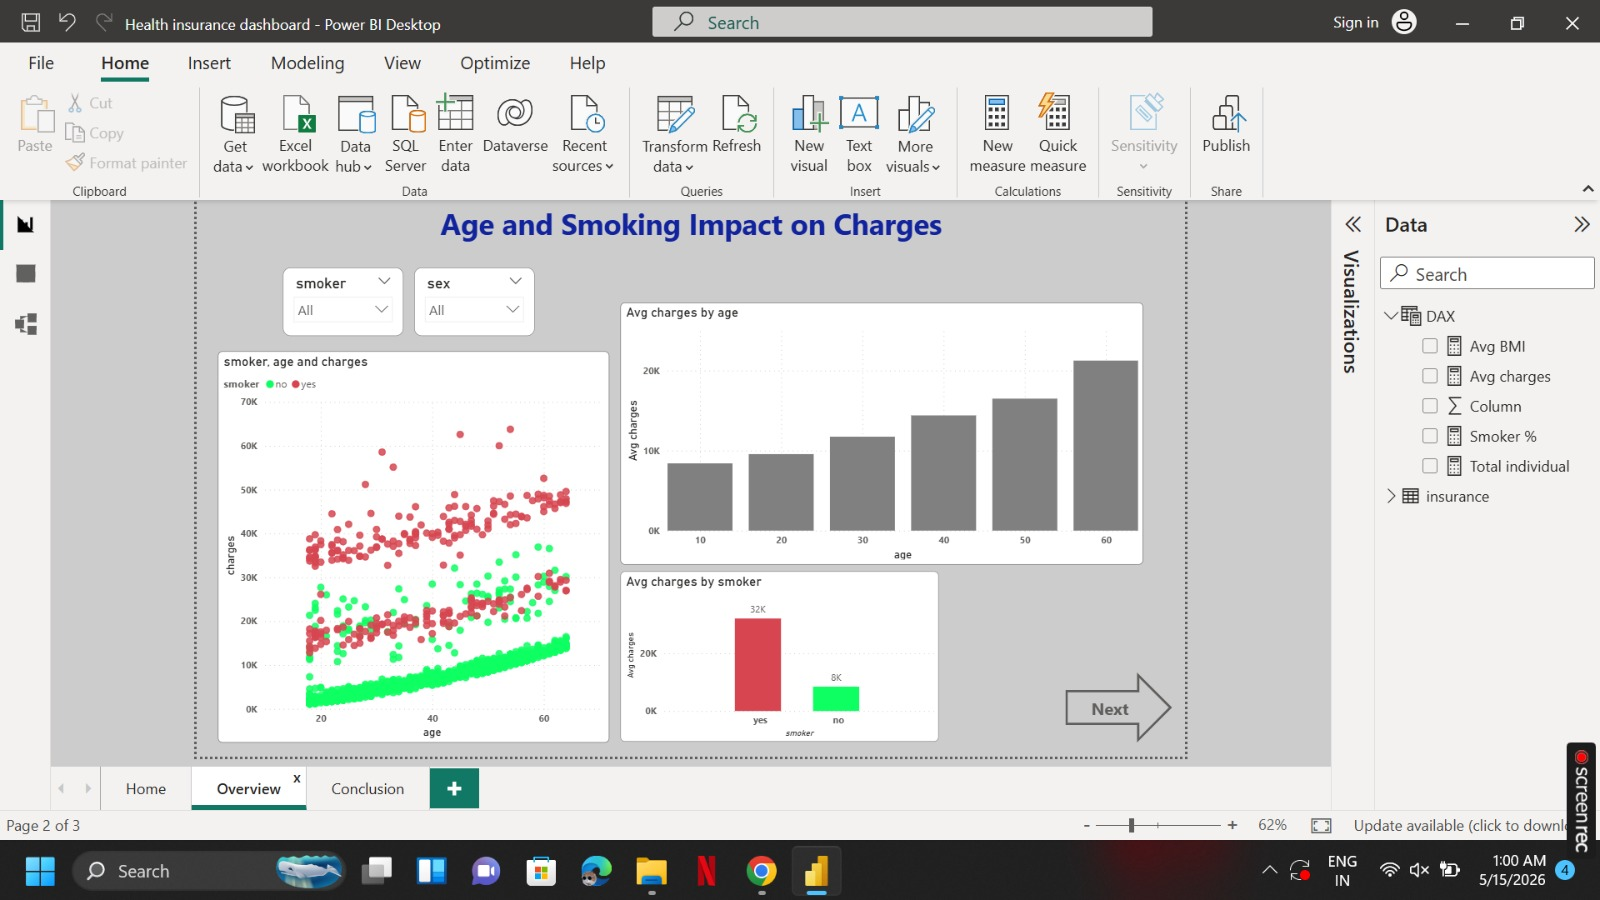

Layout of this report page (visuals, bound fields, positions):
{"tool":"powerbi","page":{"name":"Overview","canvas":[1280,720],"ordinal":1},"visuals":[{"type":"textbox","box":[0,0,1280.2,86.8],"z":0},{"type":"slicer","fields":{"Values":["insurance.sex"]},"box":[282.1,86.8,155.8,88.8],"z":1000},{"type":"slicer","fields":{"Values":["insurance.smoker"]},"box":[112.4,86.8,155.8,88.8],"z":2000},{"type":"scatterChart","fields":{"X":["insurance.age"],"Y":["insurance.charges"],"Series":["insurance.smoker"]},"box":[27.6,195.3,507,507],"z":3000},{"type":"clusteredColumnChart","fields":{"Category":["insurance.smoker"],"Y":["DAX.Avg charges"]},"box":[548.4,481.3,412.3,220.9],"z":4000},{"type":"columnChart","fields":{"Category":["insurance.age (bins)"],"Y":["DAX.Avg charges"]},"box":[548.4,132.2,676.6,339.3],"z":5000},{"type":"actionButton","box":[1124.4,611.5,138.1,90.7],"z":6000}]}

Visuals, with their boxes on the page's 1280x720 design canvas (x1, y1, x2, y2). These are canvas units, not pixel positions in the 1600x900 screenshot, which may show the page scaled, cropped or inside an application window:
textbox: BBox(0, 0, 1280, 87)
slicer - insurance.sex: BBox(282, 87, 438, 176)
slicer - insurance.smoker: BBox(112, 87, 268, 176)
scatterChart - insurance.age x insurance.charges: BBox(28, 195, 535, 702)
clusteredColumnChart - insurance.smoker x DAX.Avg charges: BBox(548, 481, 961, 702)
columnChart - insurance.age (bins) x DAX.Avg charges: BBox(548, 132, 1225, 472)
actionButton: BBox(1124, 612, 1262, 702)
